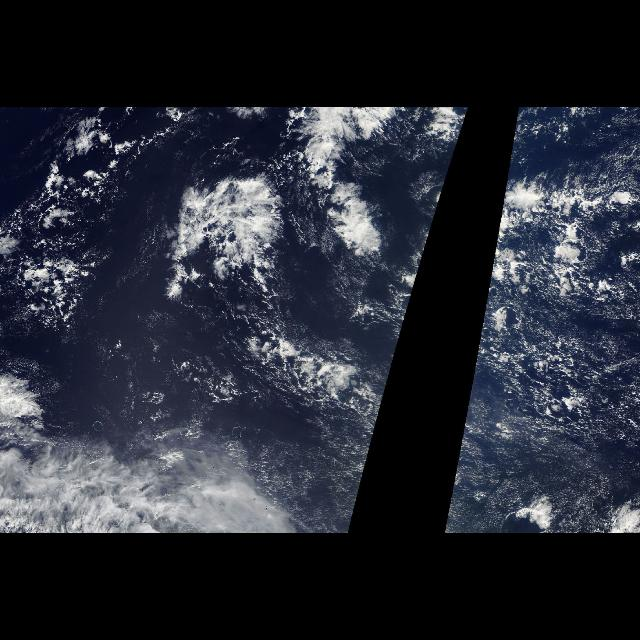Gravel: (458, 178, 638, 442), (191, 304, 409, 440), (1, 113, 137, 329)
Sugar: (442, 420, 636, 532), (262, 420, 378, 532)
